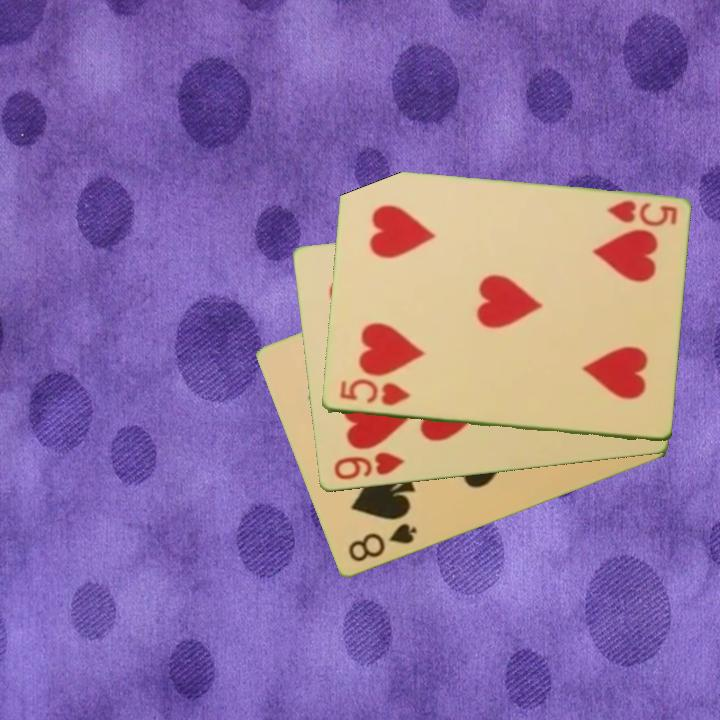5h: (603, 197, 680, 230), (335, 377, 413, 409)
8s: (344, 520, 420, 566)
9h: (330, 449, 407, 484)
